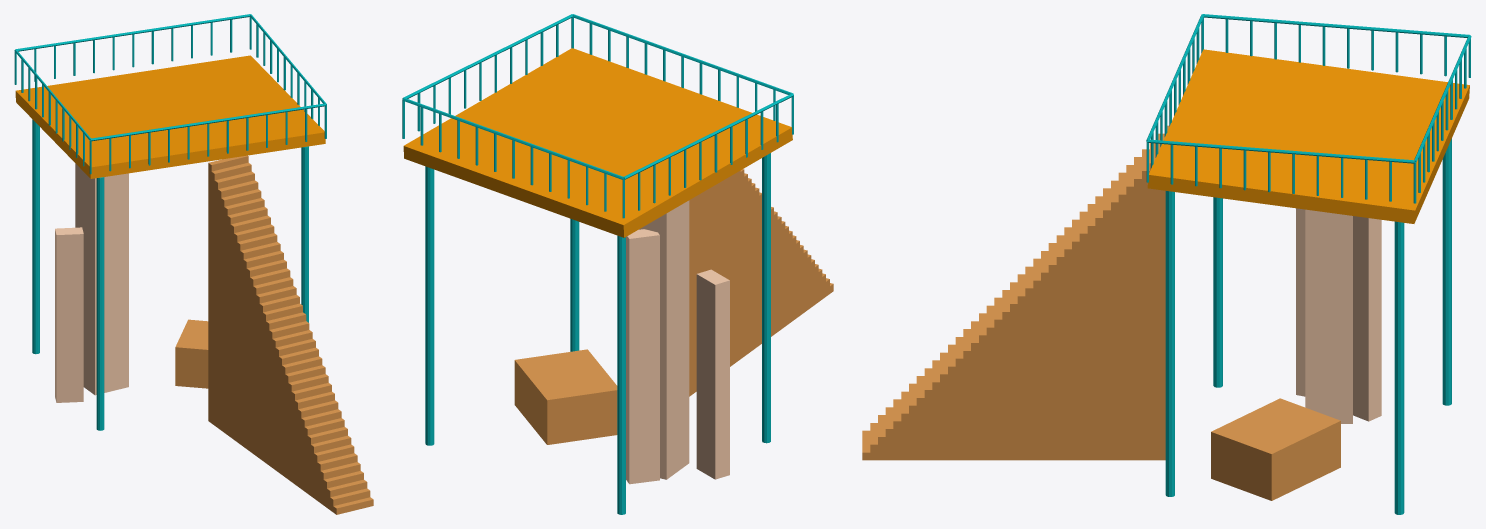
The model's file is folie_tag_004.glb.
3 renders of one model, left to right at view 1: azimuth 30°, elevation 25°; view 2: azimuth 150°, elevation 25°; view 3: azimuth 270°, elevation 25°, orthographic. The views are drawn at different scales.
Visible parts, largest first — view 1: folie_tag_004_stairs, folie_tag_004_00_plate, folie_tag_004_line, folie_tag_004_core, folie_tag_004_02_fin, folie_tag_004_03_block; view 2: folie_tag_004_00_plate, folie_tag_004_line, folie_tag_004_stairs, folie_tag_004_01_fin, folie_tag_004_core, folie_tag_004_03_block, folie_tag_004_02_fin; view 3: folie_tag_004_stairs, folie_tag_004_00_plate, folie_tag_004_line, folie_tag_004_core, folie_tag_004_03_block, folie_tag_004_01_fin, folie_tag_004_02_fin.
Part boxes in pixels (left/top/right/bottom): folie_tag_004_stairs: left=208, top=155, right=373, bottom=514; folie_tag_004_00_plate: left=15, top=55, right=325, bottom=178; folie_tag_004_line: left=14, top=14, right=326, bottom=430; folie_tag_004_core: left=75, top=163, right=128, bottom=395; folie_tag_004_02_fin: left=55, top=227, right=83, bottom=402; folie_tag_004_03_block: left=175, top=319, right=208, bottom=388; folie_tag_004_00_plate: left=403, top=48, right=792, bottom=237; folie_tag_004_line: left=402, top=14, right=793, bottom=514; folie_tag_004_stairs: left=689, top=169, right=833, bottom=396; folie_tag_004_01_fin: left=626, top=229, right=659, bottom=484; folie_tag_004_core: left=639, top=200, right=689, bottom=479; folie_tag_004_03_block: left=514, top=349, right=617, bottom=444; folie_tag_004_02_fin: left=696, top=269, right=729, bottom=479; folie_tag_004_stairs: left=862, top=125, right=1169, bottom=460; folie_tag_004_00_plate: left=1147, top=49, right=1469, bottom=223; folie_tag_004_line: left=1146, top=14, right=1471, bottom=514; folie_tag_004_core: left=1305, top=209, right=1352, bottom=423; folie_tag_004_03_block: left=1211, top=398, right=1340, bottom=500; folie_tag_004_01_fin: left=1353, top=216, right=1381, bottom=421; folie_tag_004_02_fin: left=1296, top=208, right=1305, bottom=396.
Bounding box in the file's own units: 8.11 × 9.26 × 14.12.
